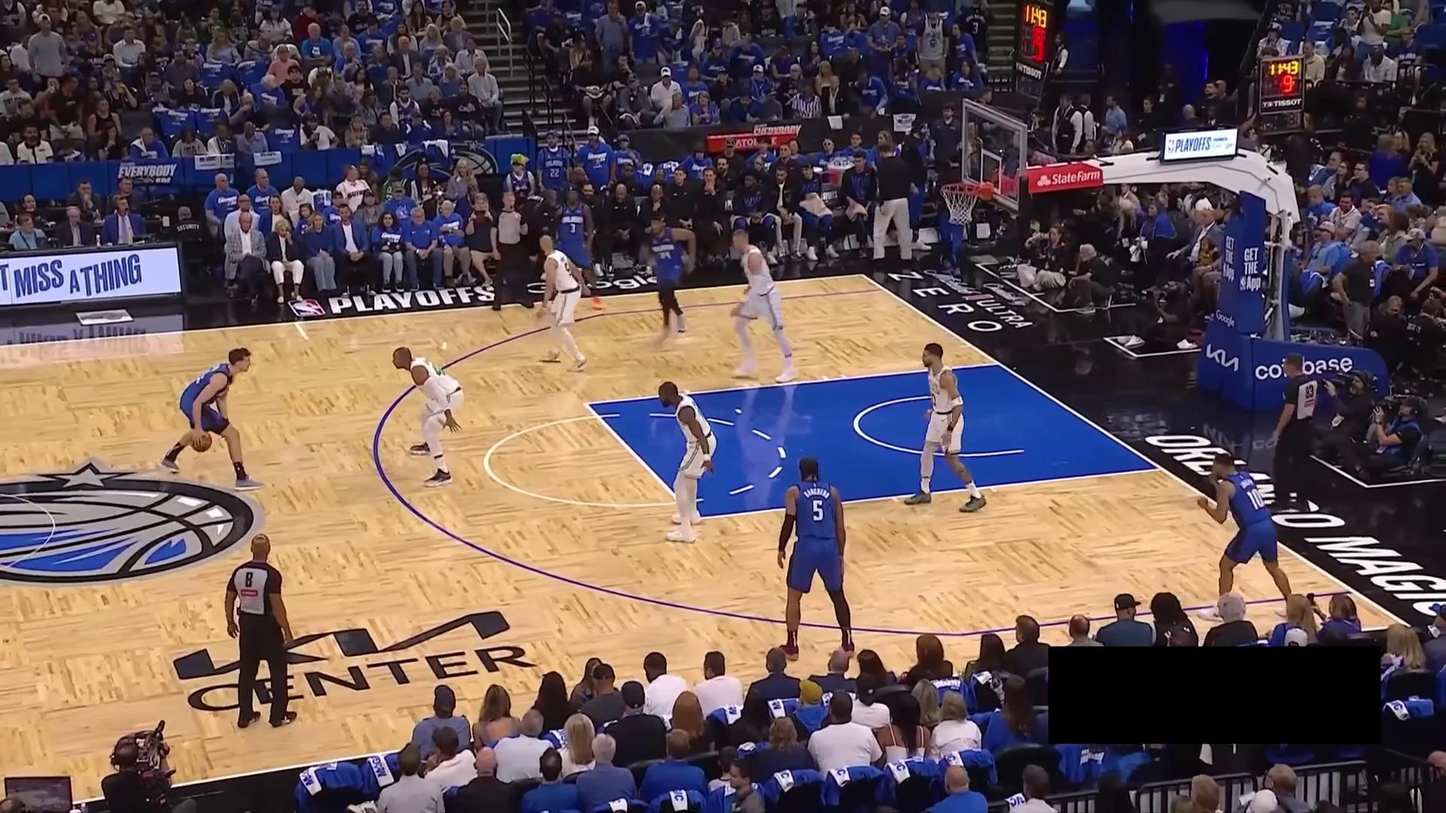ball: (191, 433, 212, 452)
number: (1246, 488, 1264, 510), (812, 499, 824, 522), (658, 249, 673, 260), (569, 222, 577, 234)
player: (772, 455, 856, 662), (1194, 452, 1294, 623), (902, 343, 987, 513), (728, 227, 800, 384), (391, 346, 465, 489), (657, 379, 718, 544), (536, 235, 589, 373), (639, 212, 697, 337), (545, 186, 603, 311)
player-in-possession: (158, 347, 265, 492)
referee: (224, 534, 297, 729), (1264, 352, 1319, 515), (488, 190, 535, 312)
rim: (940, 181, 980, 195)
